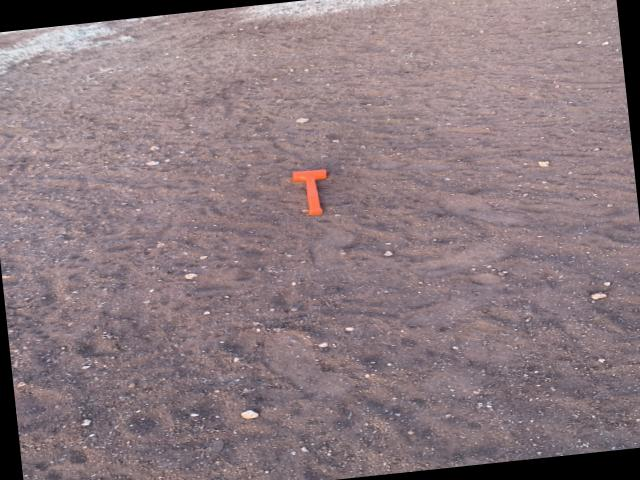hammer: (290, 168, 332, 218)
